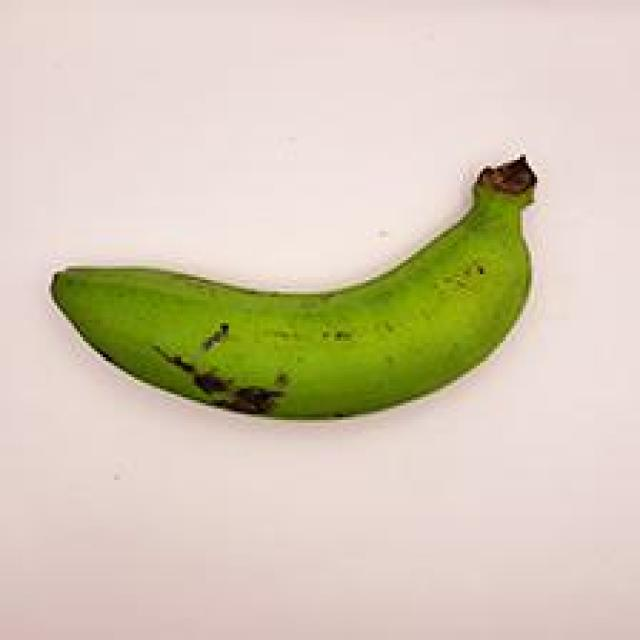Raw: (29, 144, 599, 442)
